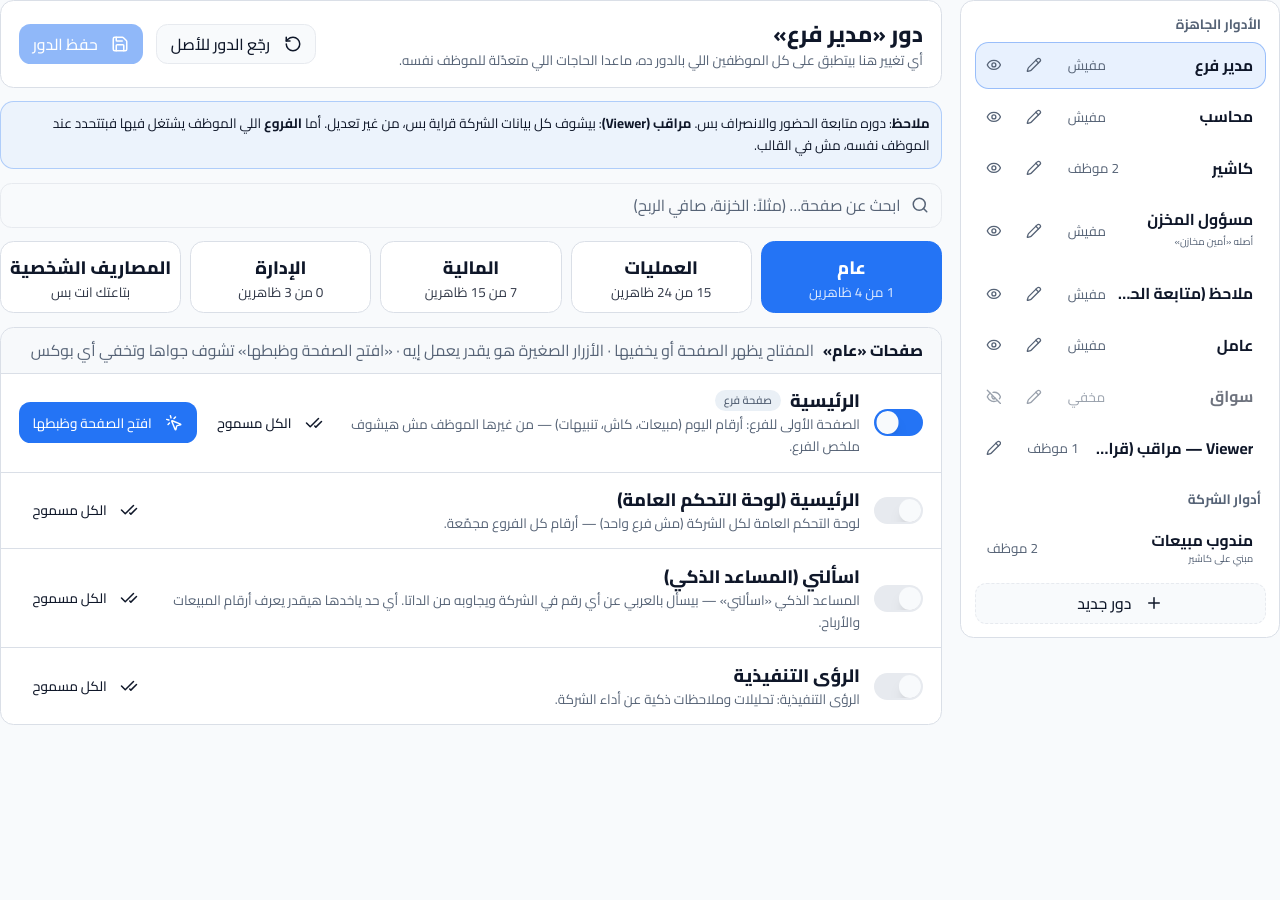
Scenario: Roles screen (migration 0115) › deleting a company role with employees asks where they go first
This screenshot has width=1280, height=900.
Step 1. Click the button "مندوب مبيعات مبني على كاشير 2 موظف" → (1202, 540), box [974,516,1266,578]
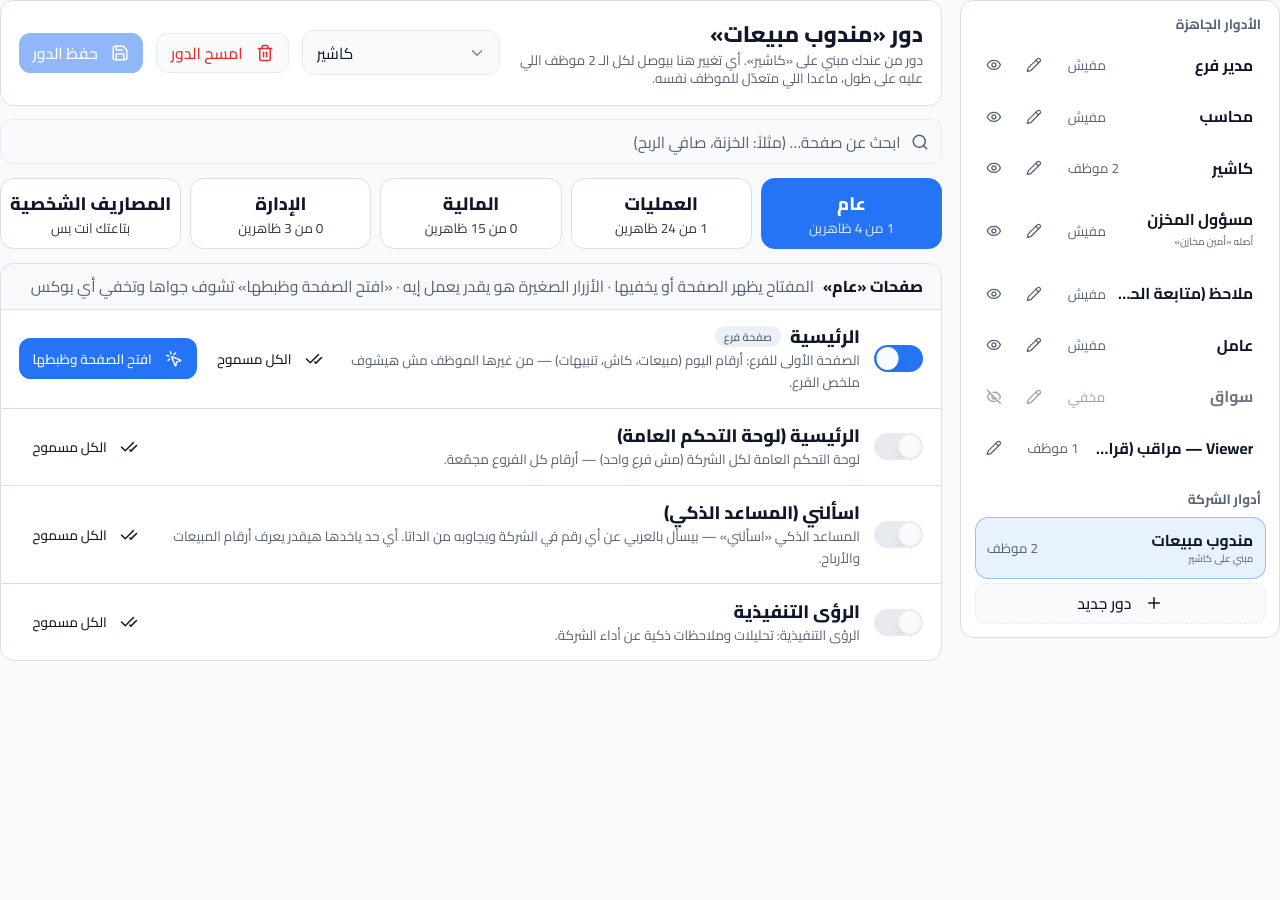
Step 2. Click the button "امسح الدور" → (222, 53), box [156,32,288,73]
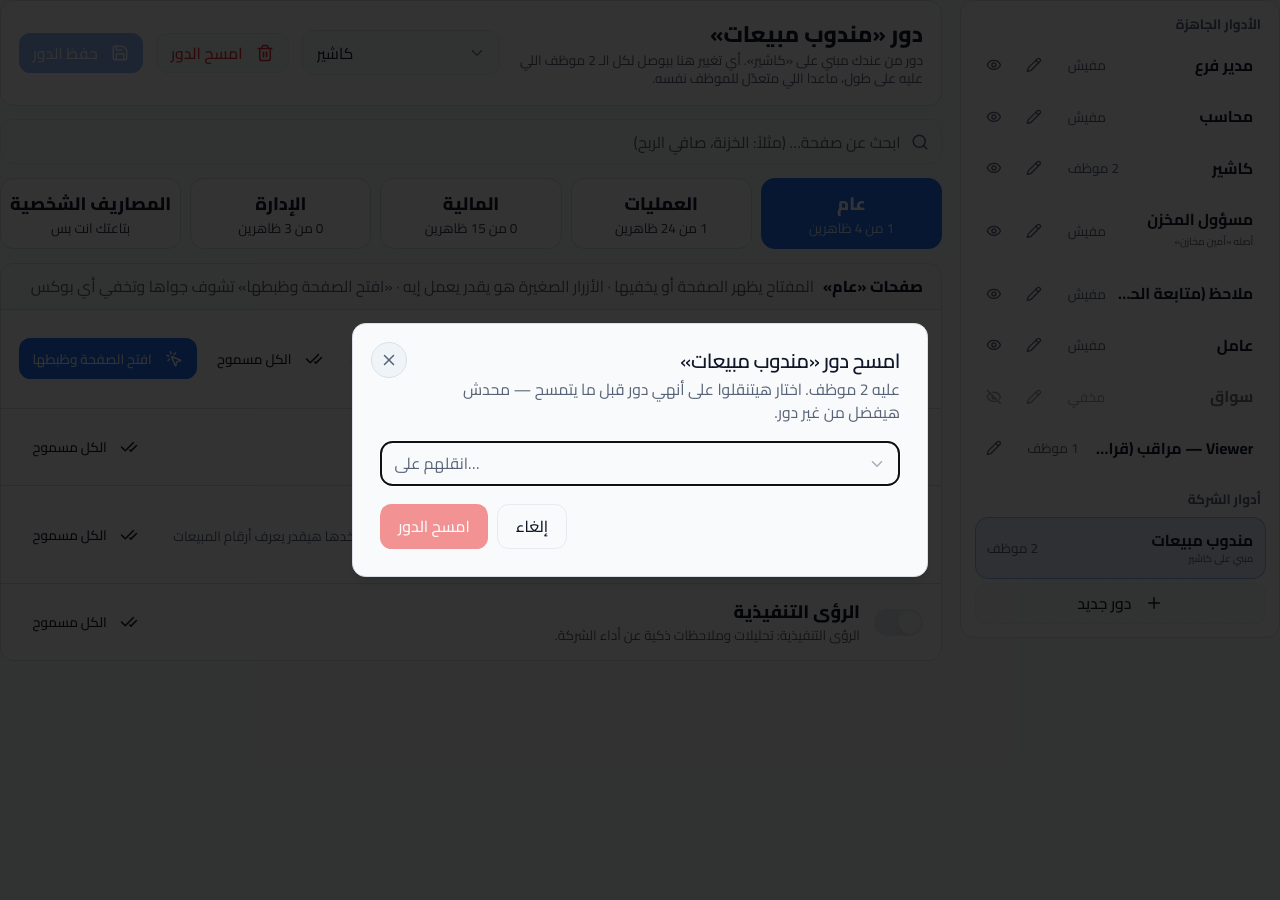
Expected: the text "عليه 2 موظف" is shown, [463,374,900,426]
Expected: the button "امسح الدور" is disabled, [380,504,488,549]
